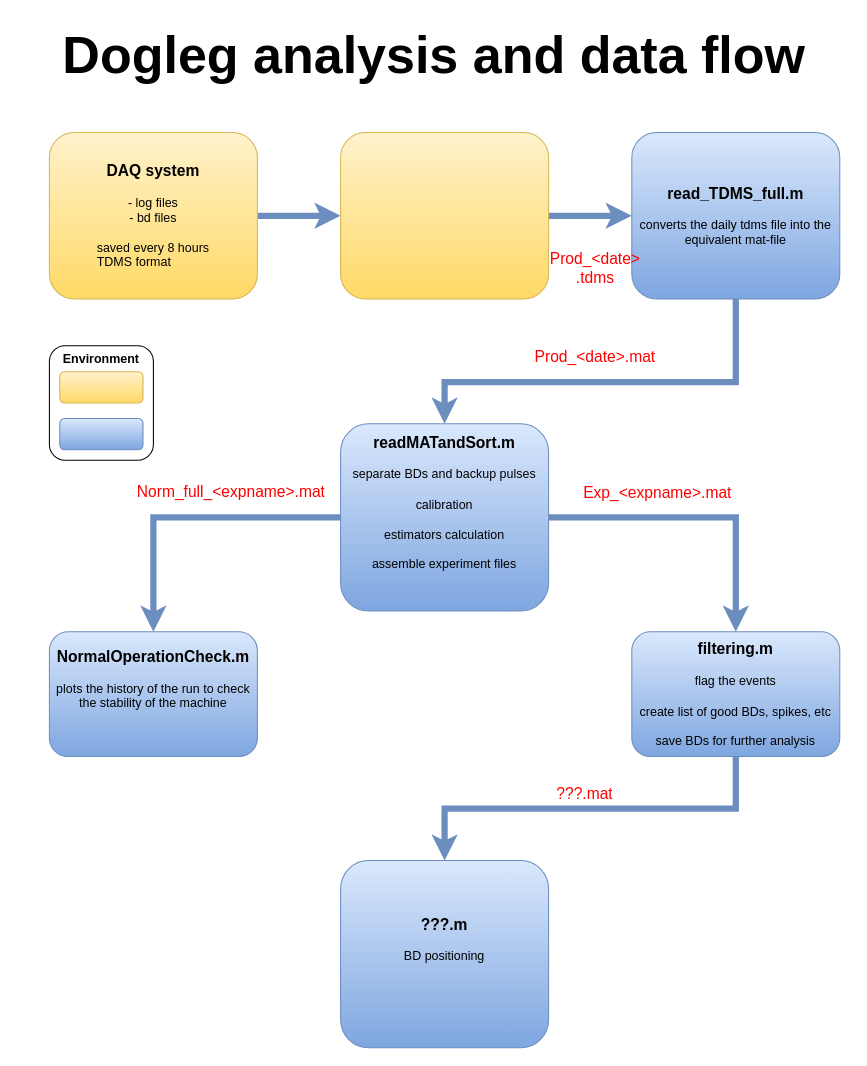
This 867x1066 diagram has some shape labels left out. The box of each missing label's shape, as (x1, y1, x2, y2) in pixels:
LabVIEW: (59, 371, 143, 403)
LabVIEW script assemble the data in a file per day still TDMS format: (340, 132, 549, 299)
Matlab: (59, 418, 143, 450)
